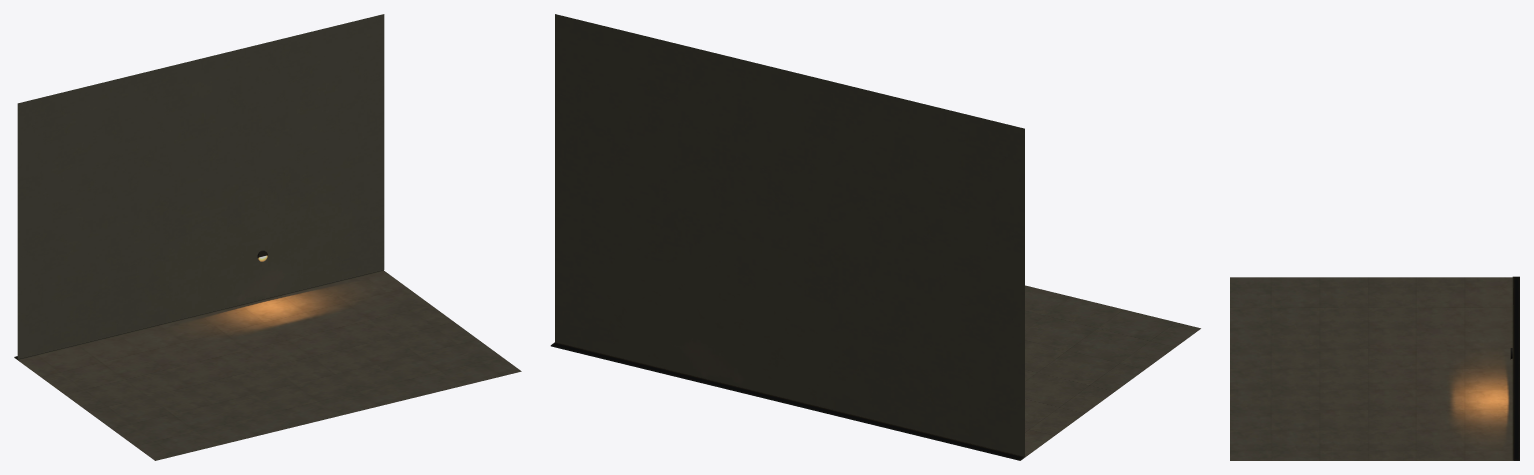
Rendered from Prova_export_6_circle_sera.glb.
3 renders of one model, left to right at view 1: azimuth 30°, elevation 25°; view 2: azimuth 150°, elevation 25°; view 3: azimuth 270°, elevation 25°, orthographic. The views are drawn at different scales.
Visible parts, largest first — view 1: Muro, Pavimento; view 2: Muro, Pavimento; view 3: Pavimento, Muro.
Boxes of the visible parts, box(x1,y1,x2,y2) form: Muro: box(14, 14, 384, 359); Pavimento: box(14, 270, 521, 460); Muro: box(550, 14, 1024, 459); Pavimento: box(551, 285, 1200, 460); Pavimento: box(1230, 277, 1519, 460); Muro: box(1512, 276, 1519, 460).
Size of the model in its own units: 5.99 by 4.01 by 4.
4 materials, 4 textured.
